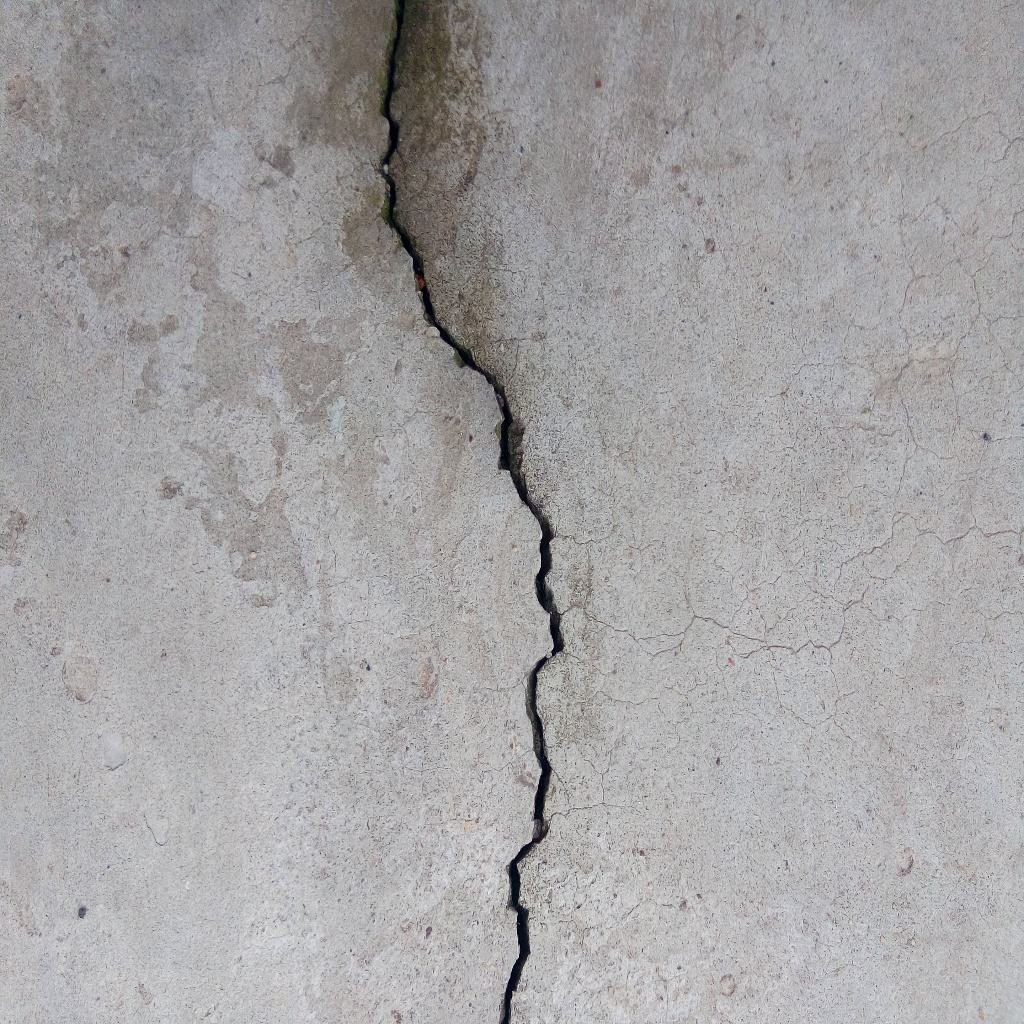Crack: (377, 1, 565, 1024)
